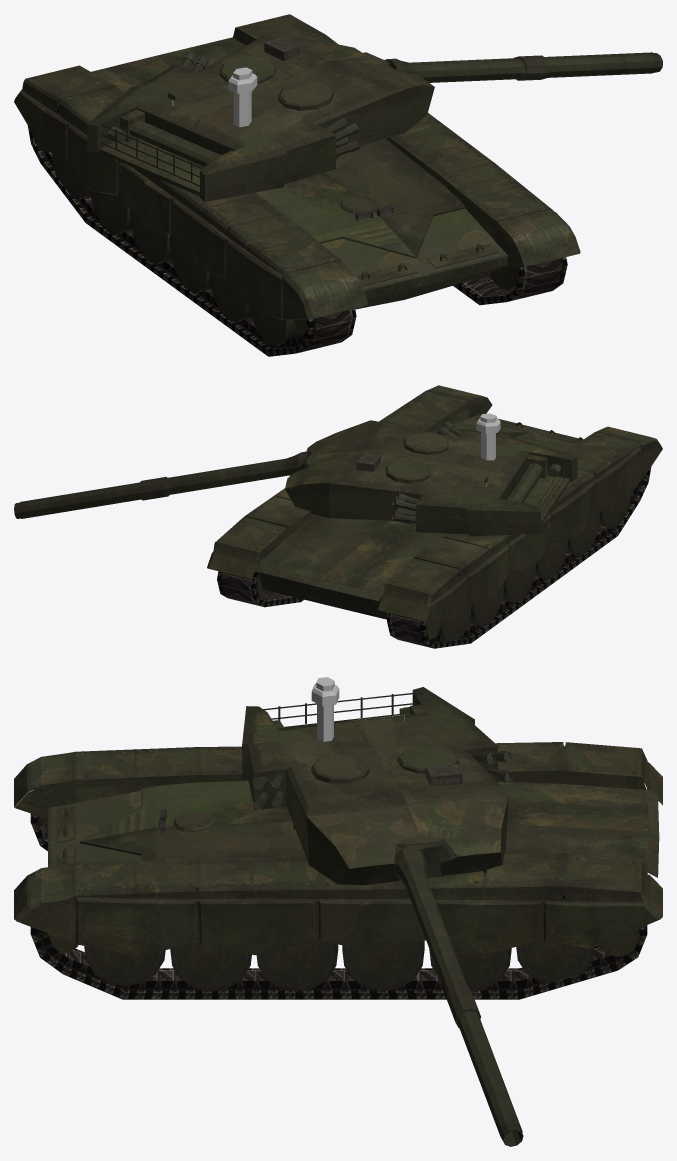
File: China_2.fbx
The picture shows the model from 3 angles, top to bottom: view 1: azimuth 30°, elevation 25°; view 2: azimuth 150°, elevation 25°; view 3: azimuth 270°, elevation 25°; orthographic projection. The views are drawn at different scales.
Parts seen in each view (by area): view 1: polySurface432, polySurface368, polySurface367, polySurface1; view 2: polySurface432, polySurface368, polySurface367, polySurface1; view 3: polySurface432, polySurface368, polySurface367, polySurface1.
Part boxes in pixels (x1=…): polySurface432: x1=14, y1=14, x2=580, y2=346; polySurface368: x1=87, y1=31, x2=434, y2=201; polySurface367: x1=27, y1=99, x2=567, y2=356; polySurface1: x1=385, y1=52, x2=662, y2=82; polySurface432: x1=207, y1=385, x2=662, y2=641; polySurface368: x1=285, y1=413, x2=577, y2=536; polySurface367: x1=217, y1=467, x2=651, y2=648; polySurface1: x1=14, y1=451, x2=311, y2=518; polySurface432: x1=14, y1=742, x2=662, y2=991; polySurface368: x1=242, y1=677, x2=512, y2=885; polySurface367: x1=30, y1=773, x2=647, y2=999; polySurface1: x1=394, y1=847, x2=523, y2=1146.
Size of the model in its own units: 17.62 by 5.5 by 14.87.
